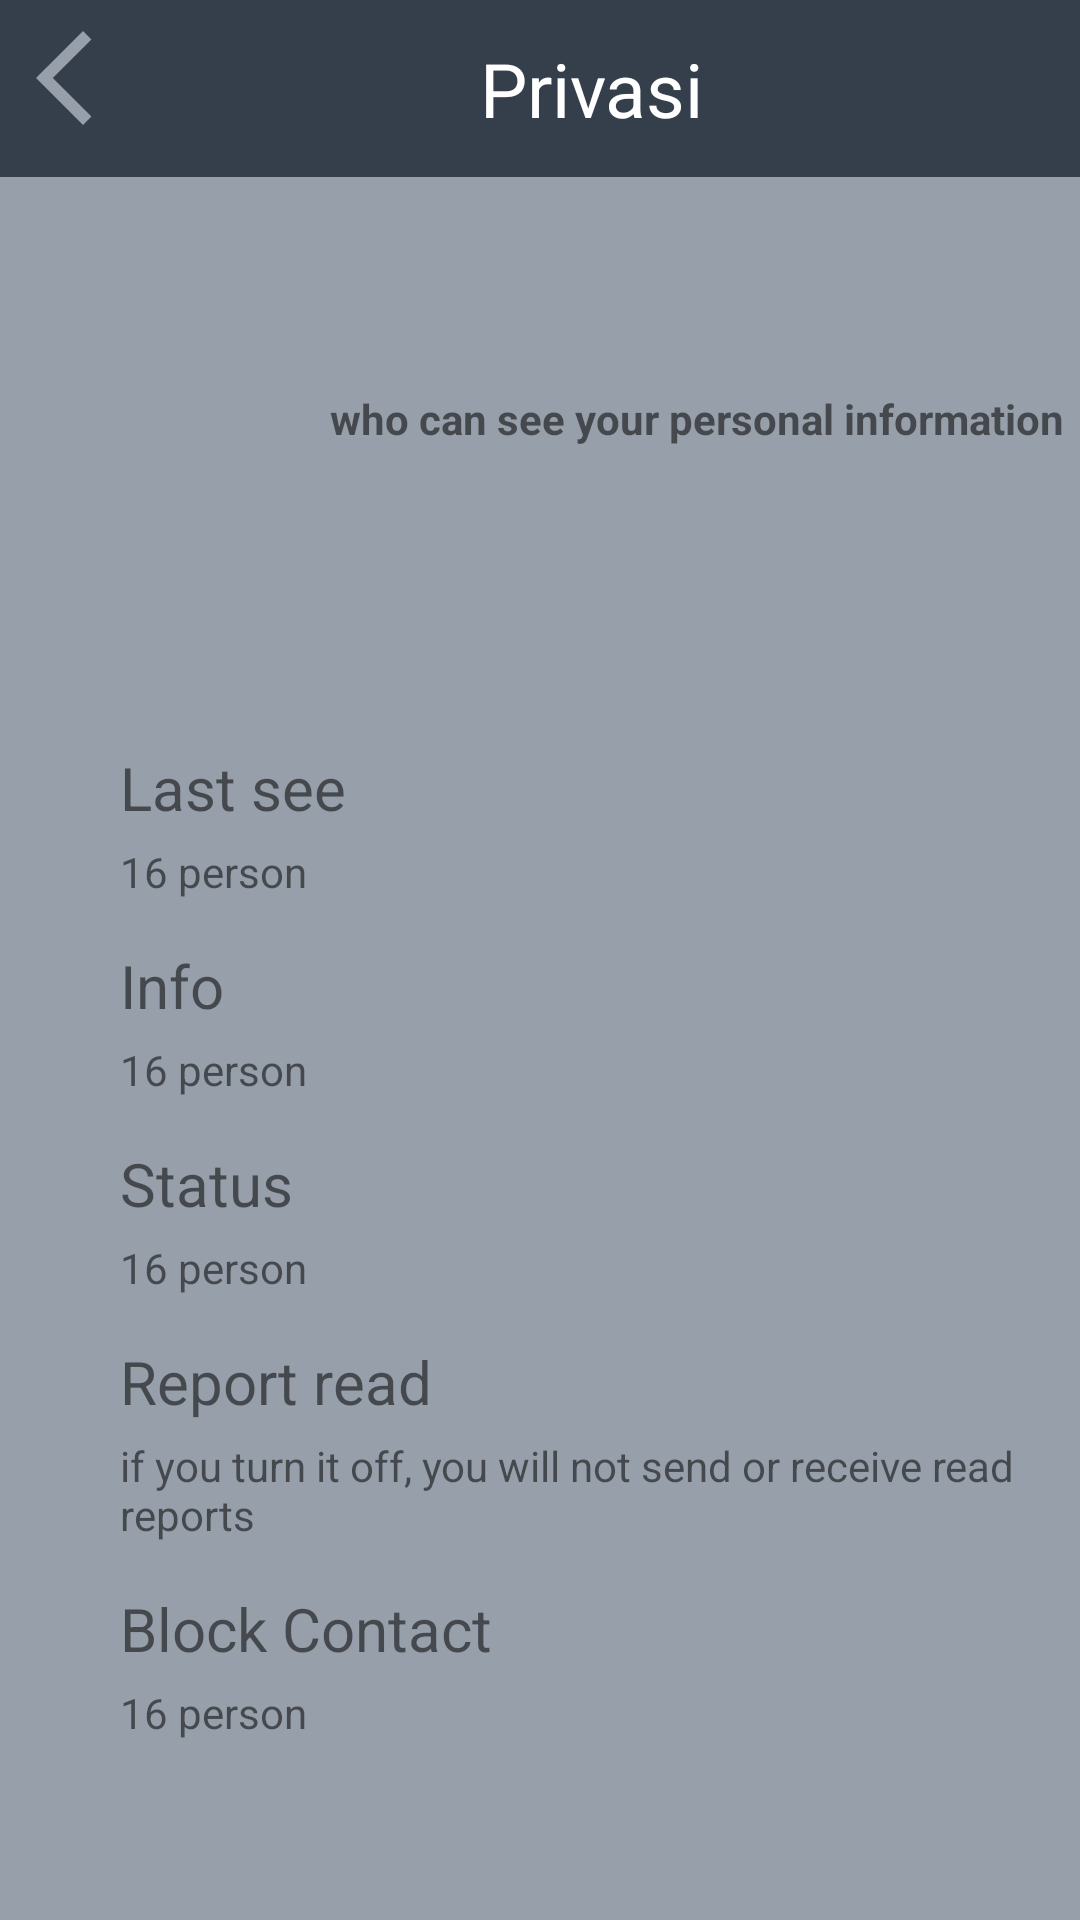

Named icons in this screenshot (1080x1920) and their bounding boxes, Rect(x1, y1, x2, y2):
back arrow: Rect(36, 31, 91, 125)
